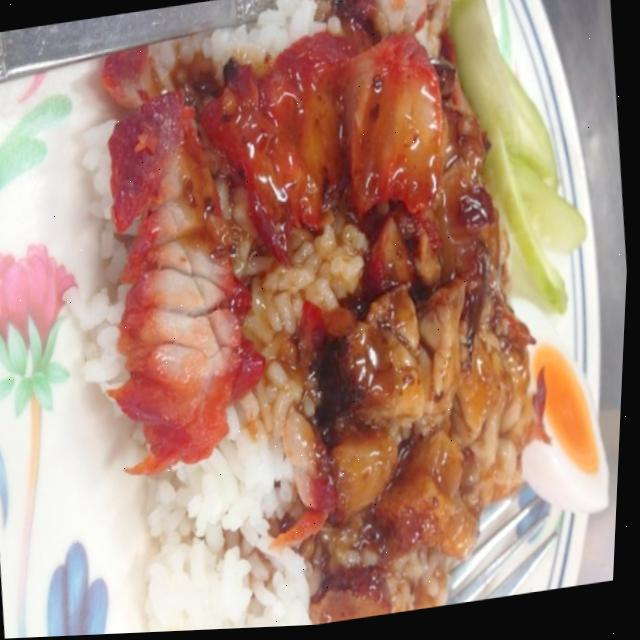猪肉菜式: (3, 0, 640, 639)
